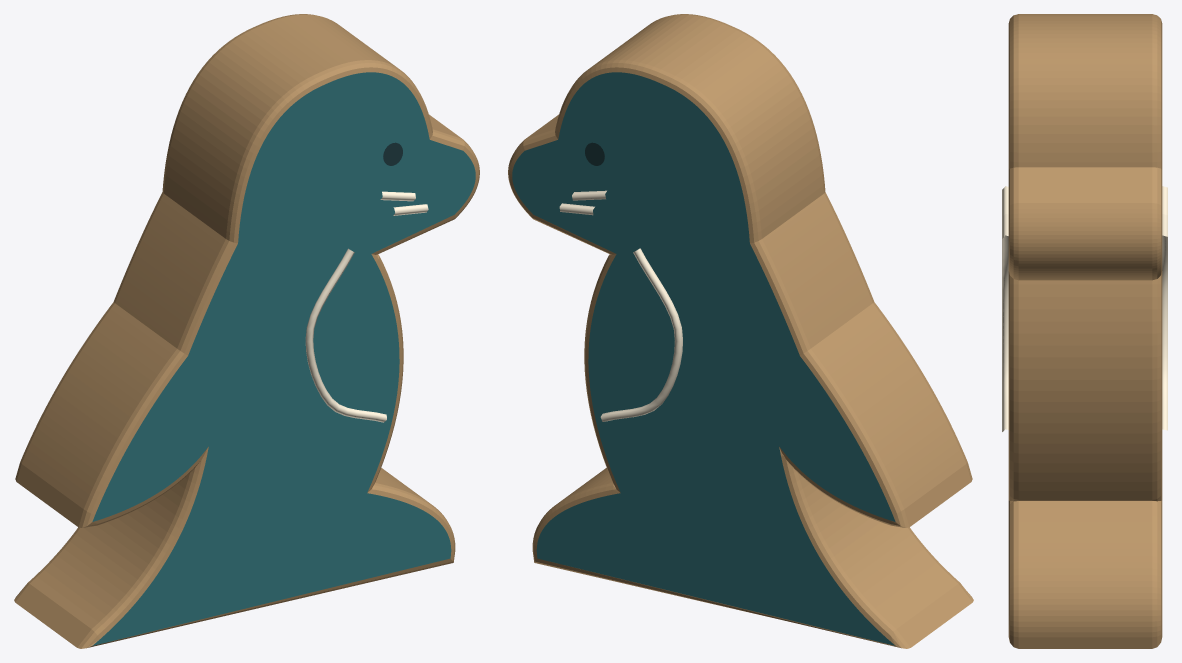
Rendered from meeple-0.glb.
The picture shows the model from 3 angles, left to right: view 1: azimuth 30°, elevation 25°; view 2: azimuth 150°, elevation 25°; view 3: azimuth 270°, elevation 25°; orthographic projection. The views are drawn at different scales.
Visible parts, largest first — view 1: meeple-0-강치; view 2: meeple-0-강치; view 3: meeple-0-강치.
Boxes of the visible parts, x1,y1,x2,y2 form: meeple-0-강치: [14, 14, 479, 648]; meeple-0-강치: [508, 14, 973, 648]; meeple-0-강치: [1002, 14, 1167, 648].
Size of the model in its own units: 0.024 by 0.03 by 0.008.
